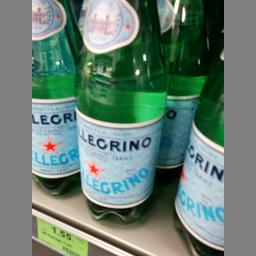water: (73, 0, 169, 222), (174, 34, 224, 255), (31, 0, 80, 198)
